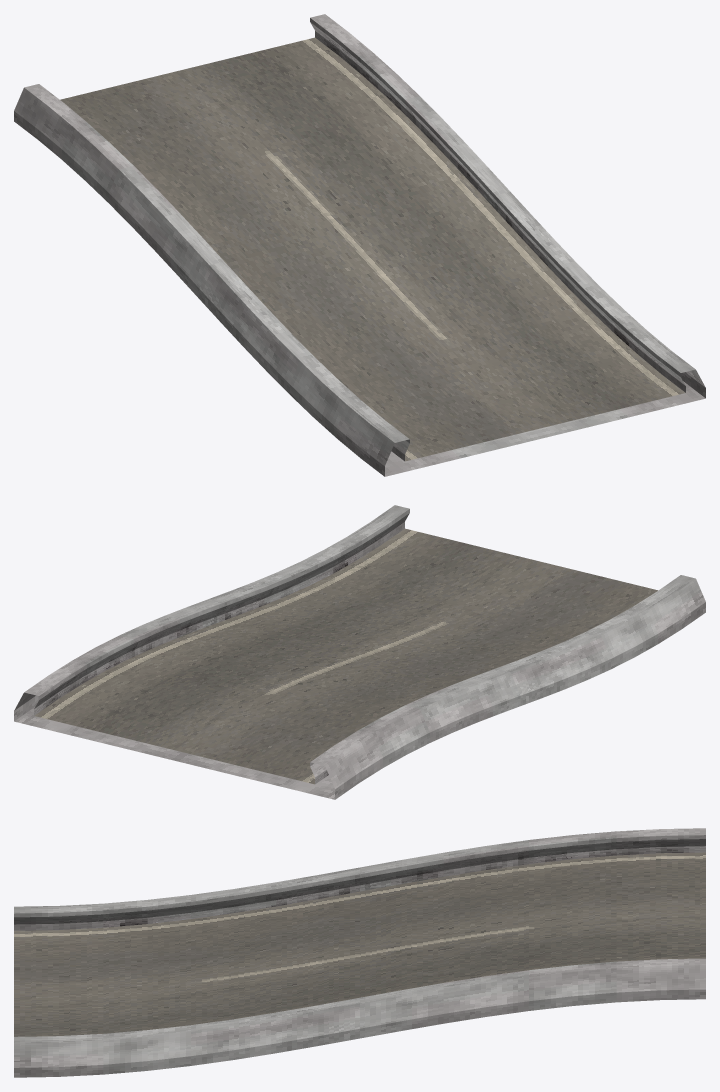
Rendered from straight2.glb.
3 renders of one model, top to bottom at view 1: azimuth 30°, elevation 25°; view 2: azimuth 150°, elevation 25°; view 3: azimuth 270°, elevation 25°, orthographic. The views are drawn at different scales.
Parts seen in each view (by area): view 1: road-Straight-Flat-Flat-Up1-Center-Size2; view 2: road-Straight-Flat-Flat-Up1-Center-Size2; view 3: road-Straight-Flat-Flat-Up1-Center-Size2.
Boxes of the visible parts, x1,y1,x2,y2 form: road-Straight-Flat-Flat-Up1-Center-Size2: (14, 14, 705, 476); road-Straight-Flat-Flat-Up1-Center-Size2: (14, 505, 705, 799); road-Straight-Flat-Flat-Up1-Center-Size2: (14, 828, 705, 1077).
Bounding box in the file's own units: 1 × 0.3438 × 2.
2 materials, 2 textured.
